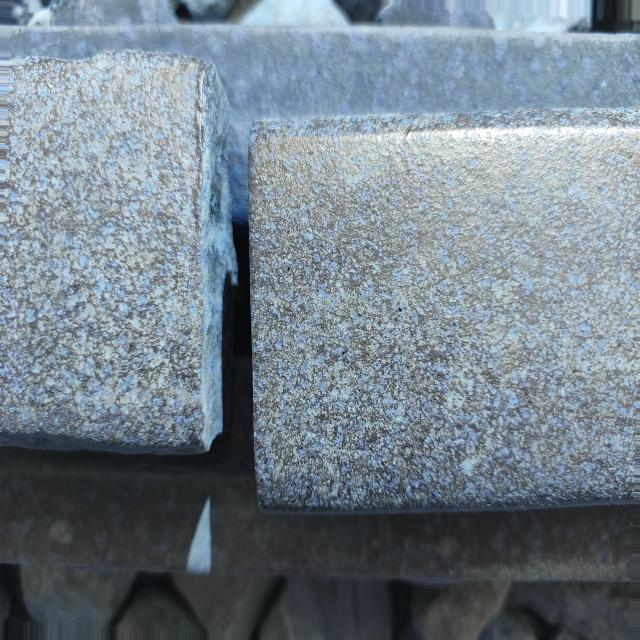crack: (157, 24, 318, 560)
